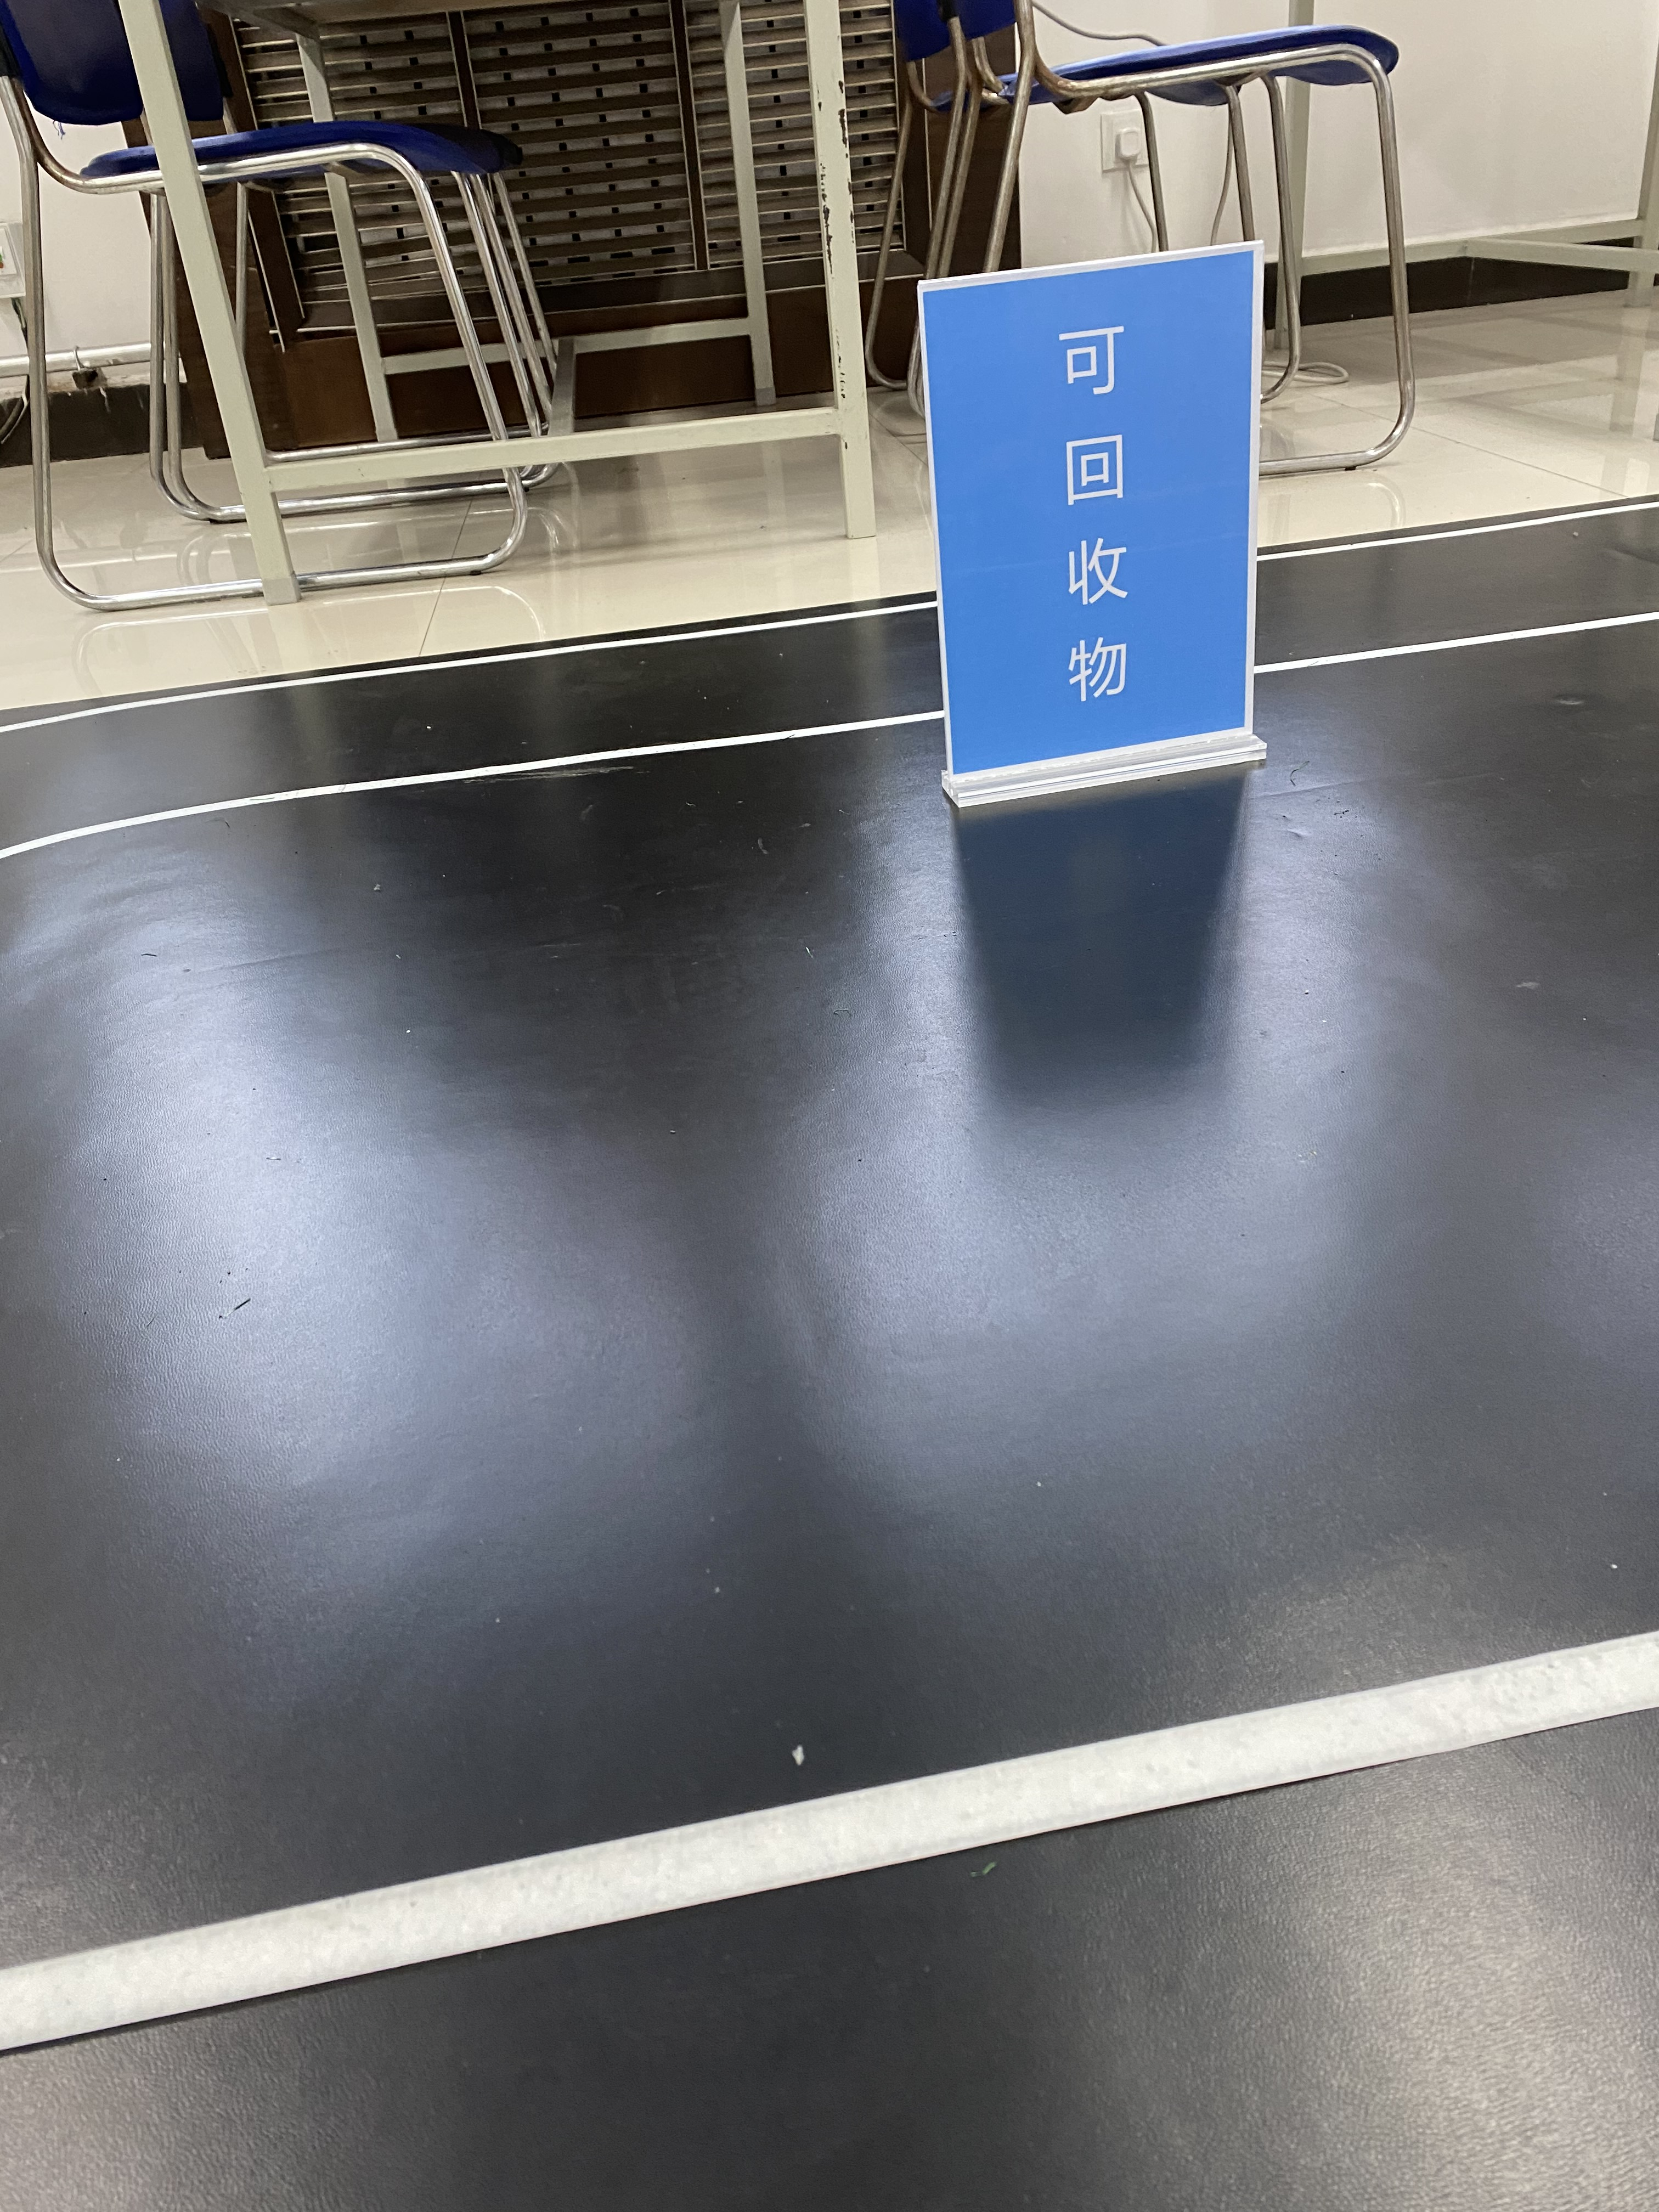blue: (925, 291, 1253, 737)
